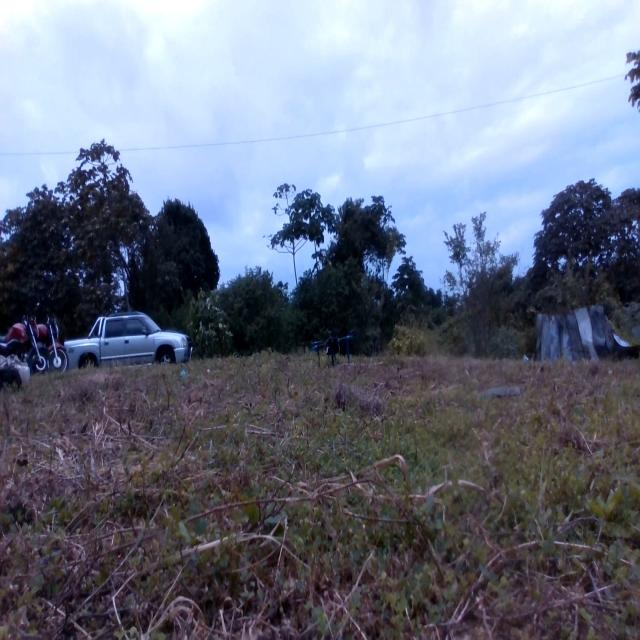-uav-: (311, 324, 359, 374)
